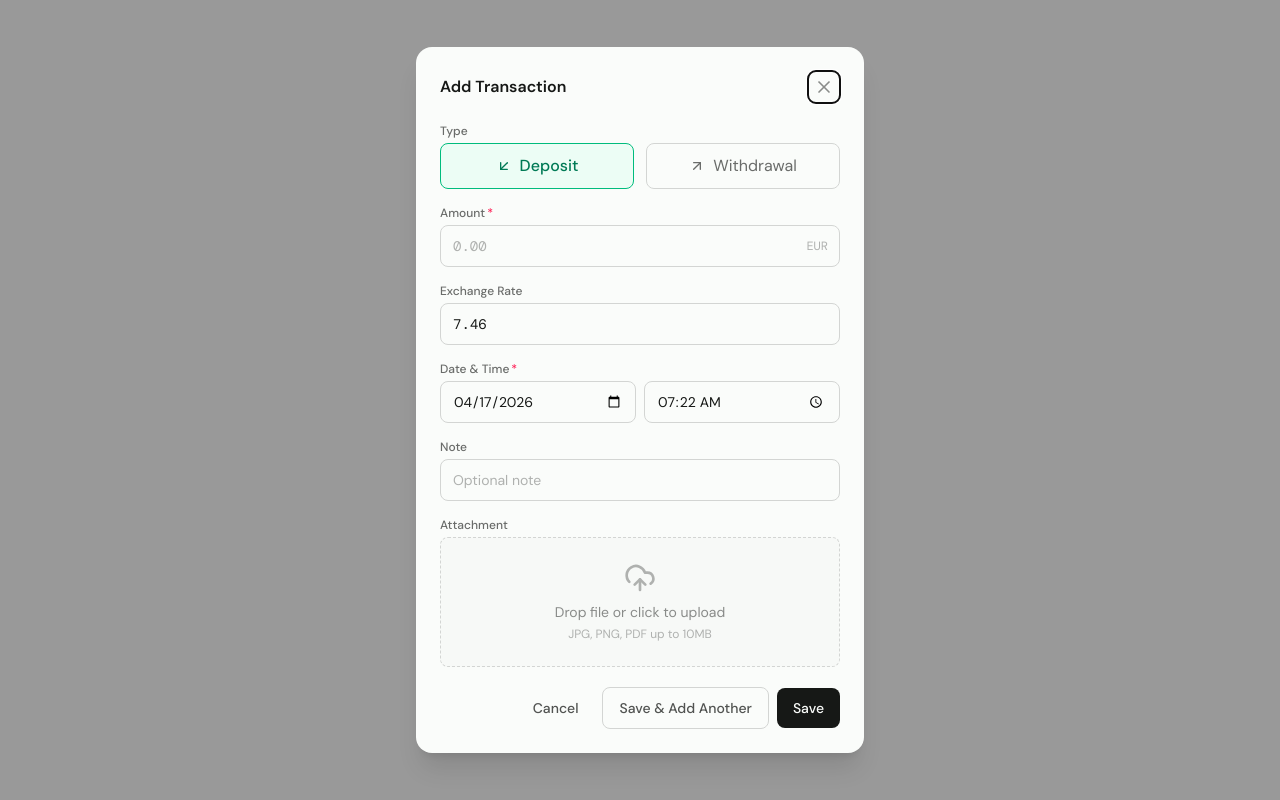
Test: TransactionDialog › Exchange rate › shows DKK equivalent preview when amount and rate are set
Type "1000" into the number field with placeholder "0.00".
click(640, 246); type("1000")  # box [440,225,840,267]
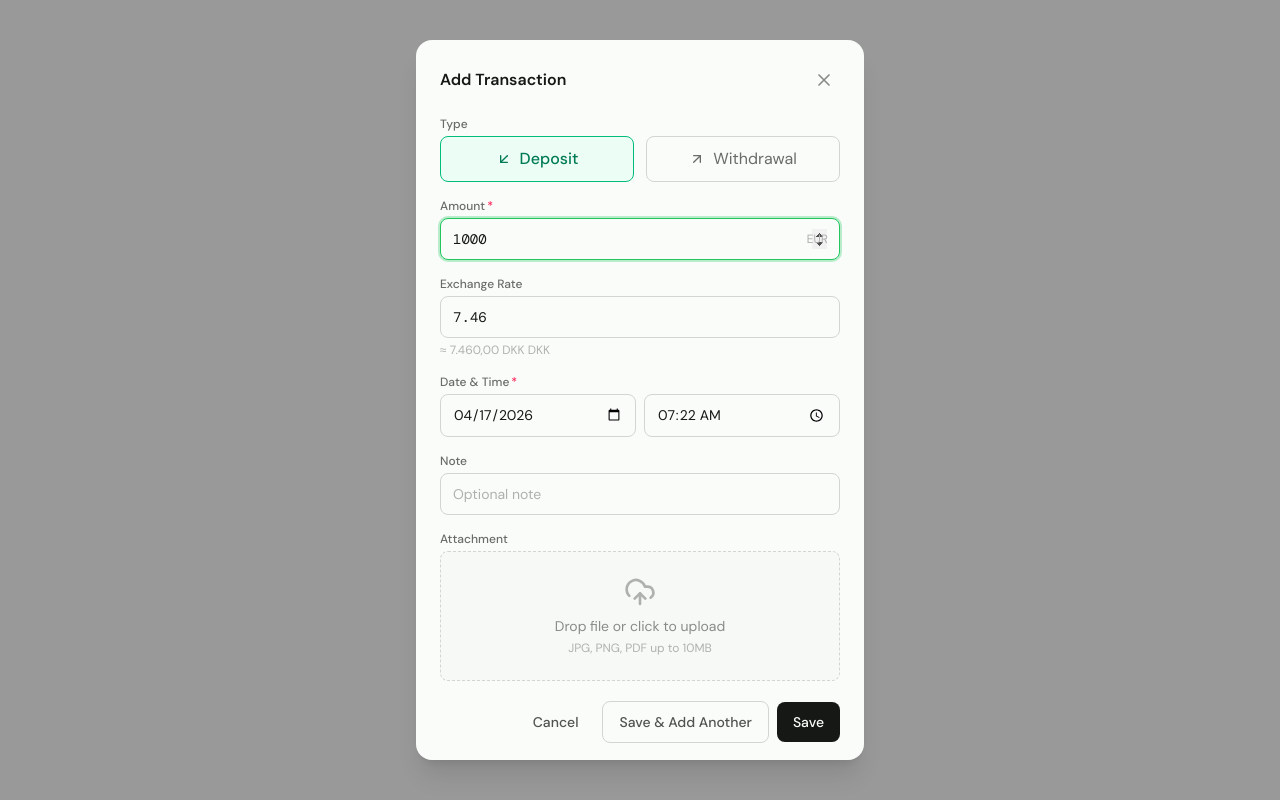
Expected: the text "≈ 7.460,00 DKK DKK" is shown, [440,342,550,358]
